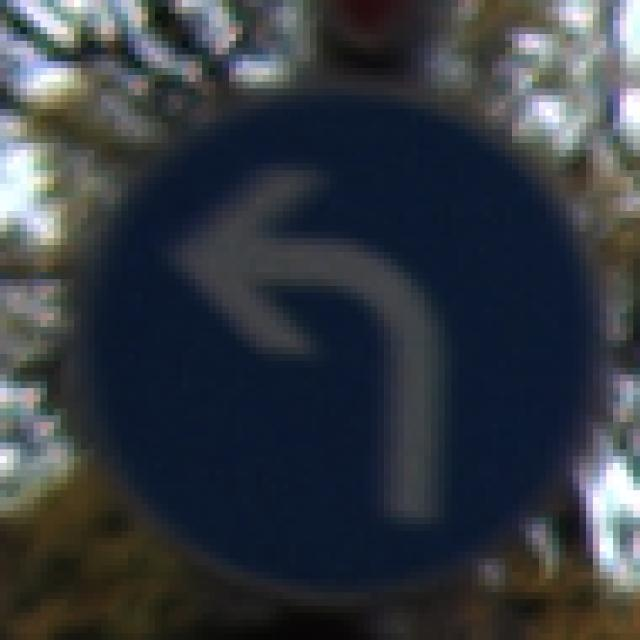compulsary turn left ahead: (86, 85, 600, 601)
